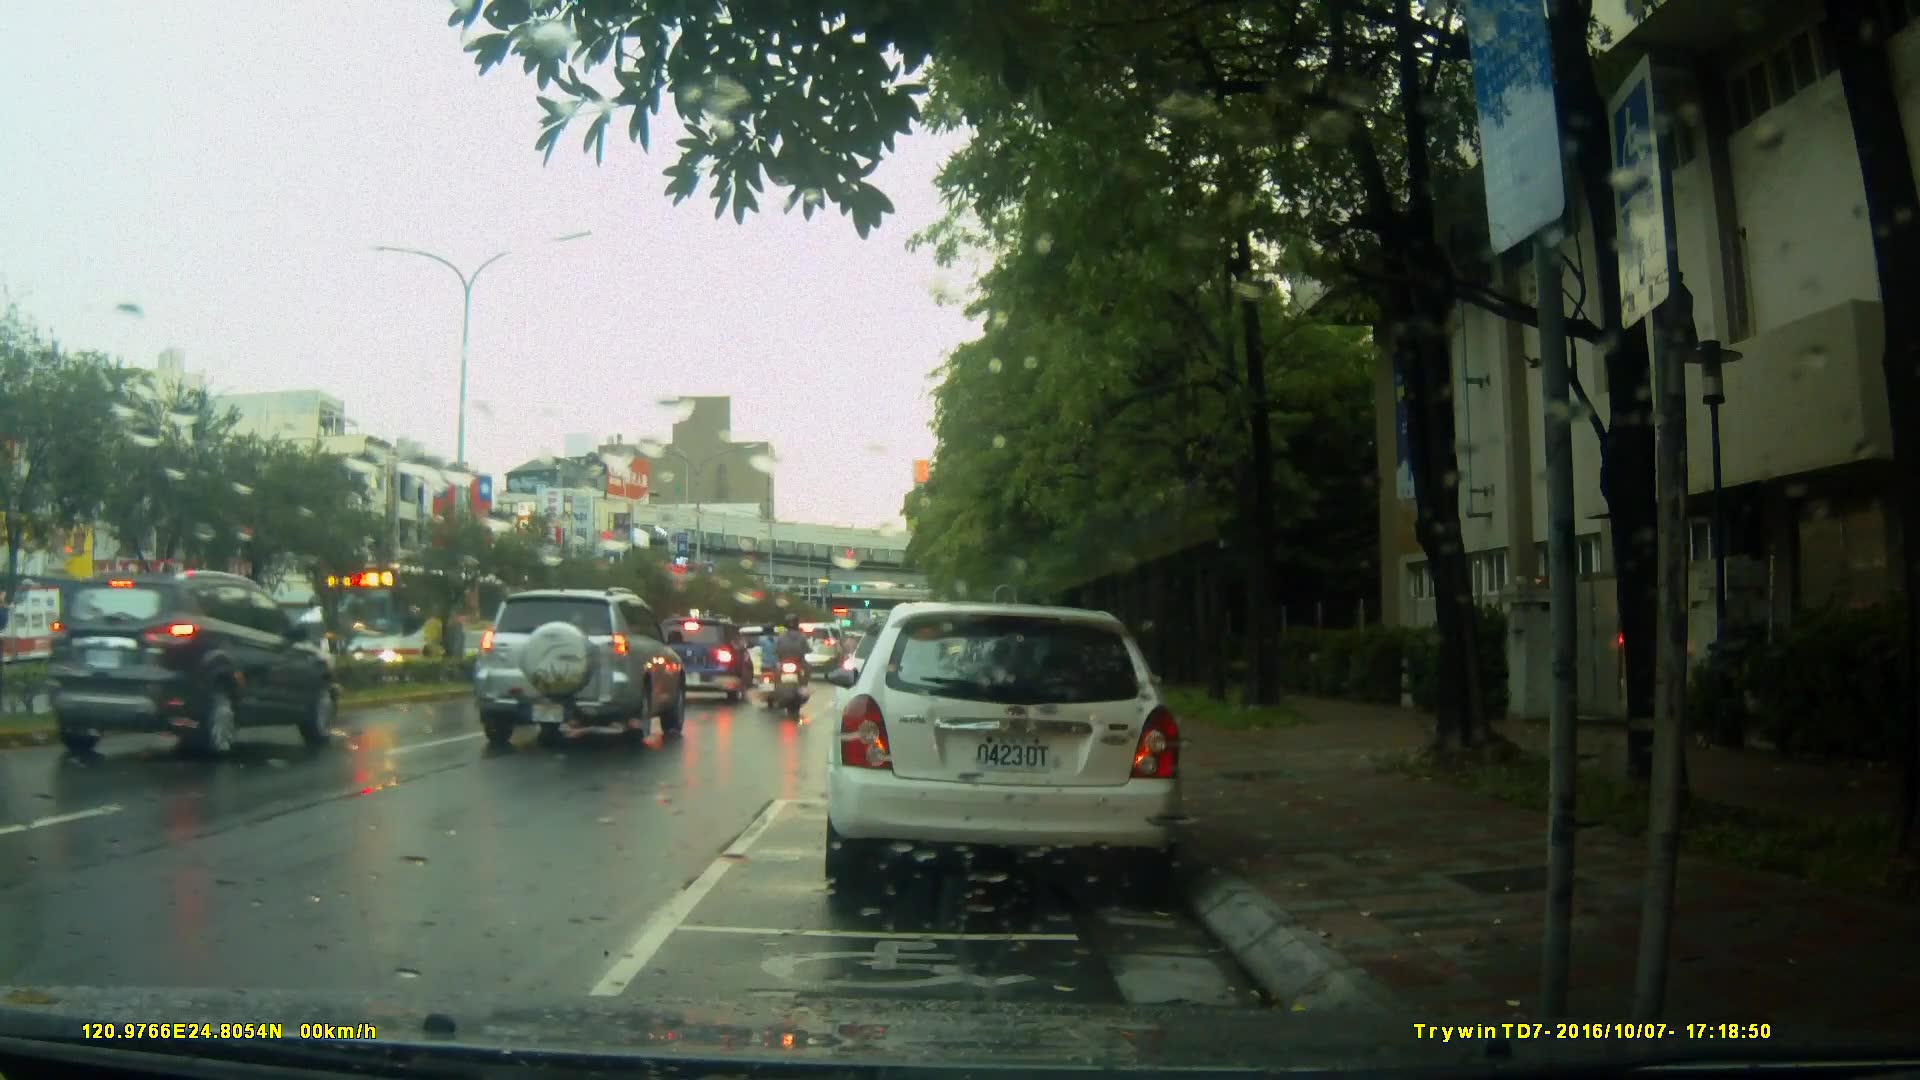rider: (772, 610, 813, 720), (758, 619, 784, 703)
vehicle: (820, 602, 1188, 898), (23, 569, 336, 766), (474, 586, 691, 746), (647, 613, 757, 705)
